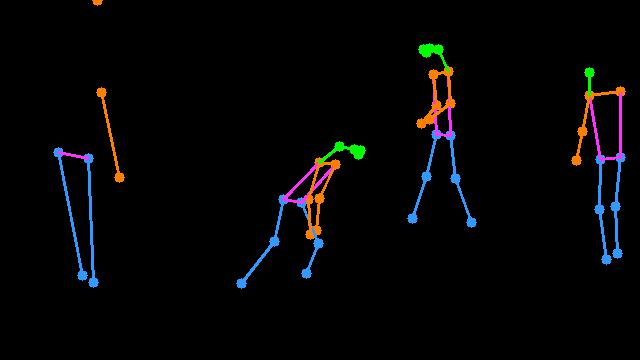normal: (226, 126, 382, 300), (557, 43, 639, 270)
